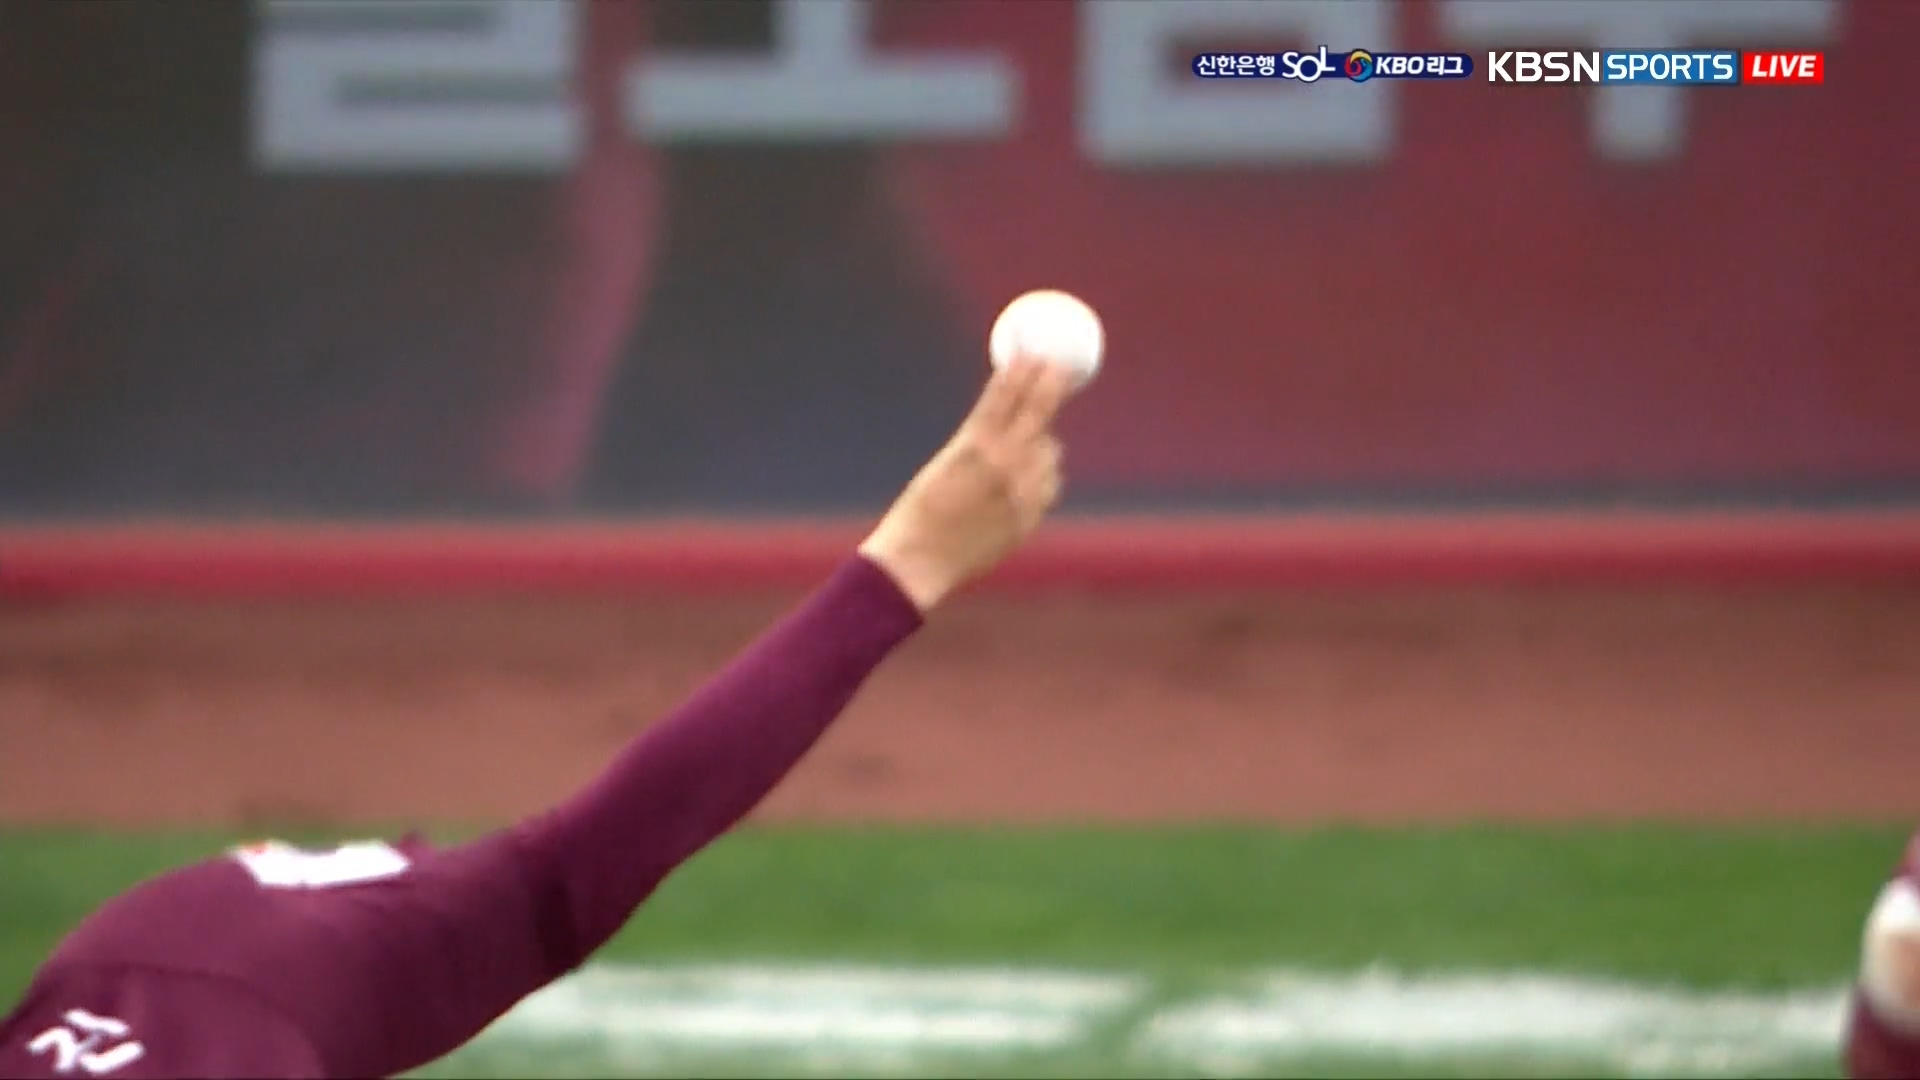zoomin_hand: (574, 273, 1117, 920)
